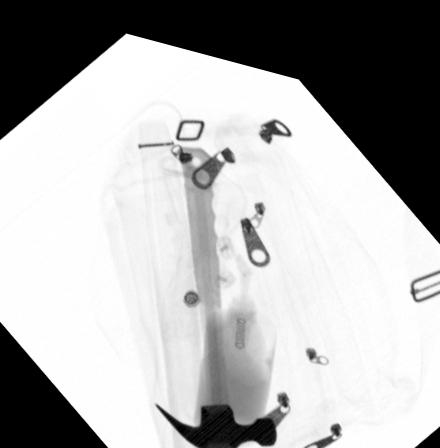Hammer: (153, 135, 279, 440)
